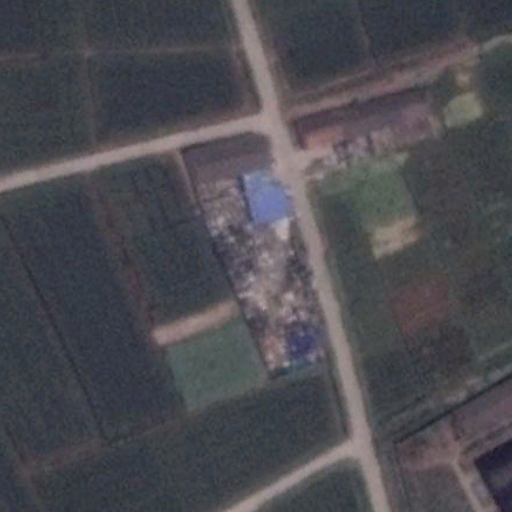msw: (211, 223, 334, 376)
